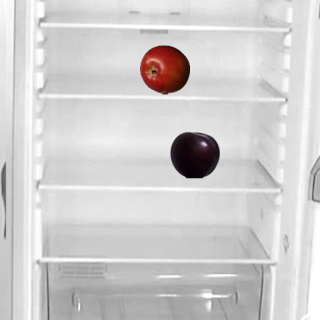Apple Braeburn: (139, 44, 189, 94)
Cherry Wax Black: (169, 129, 219, 179)
